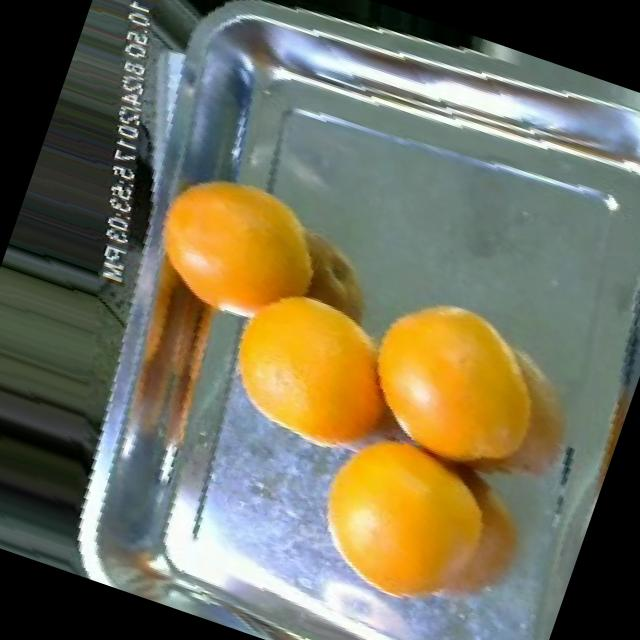Fruit: (275, 404, 535, 640), (115, 137, 368, 360), (193, 259, 425, 477)
